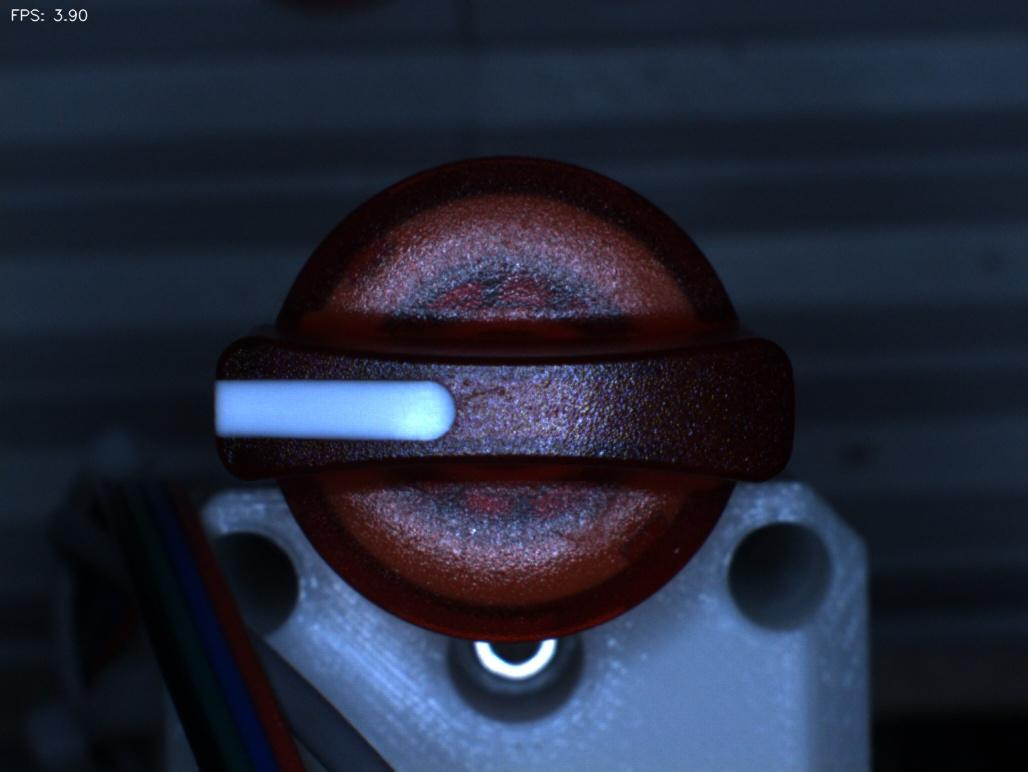Choc: (204, 424, 283, 506)
